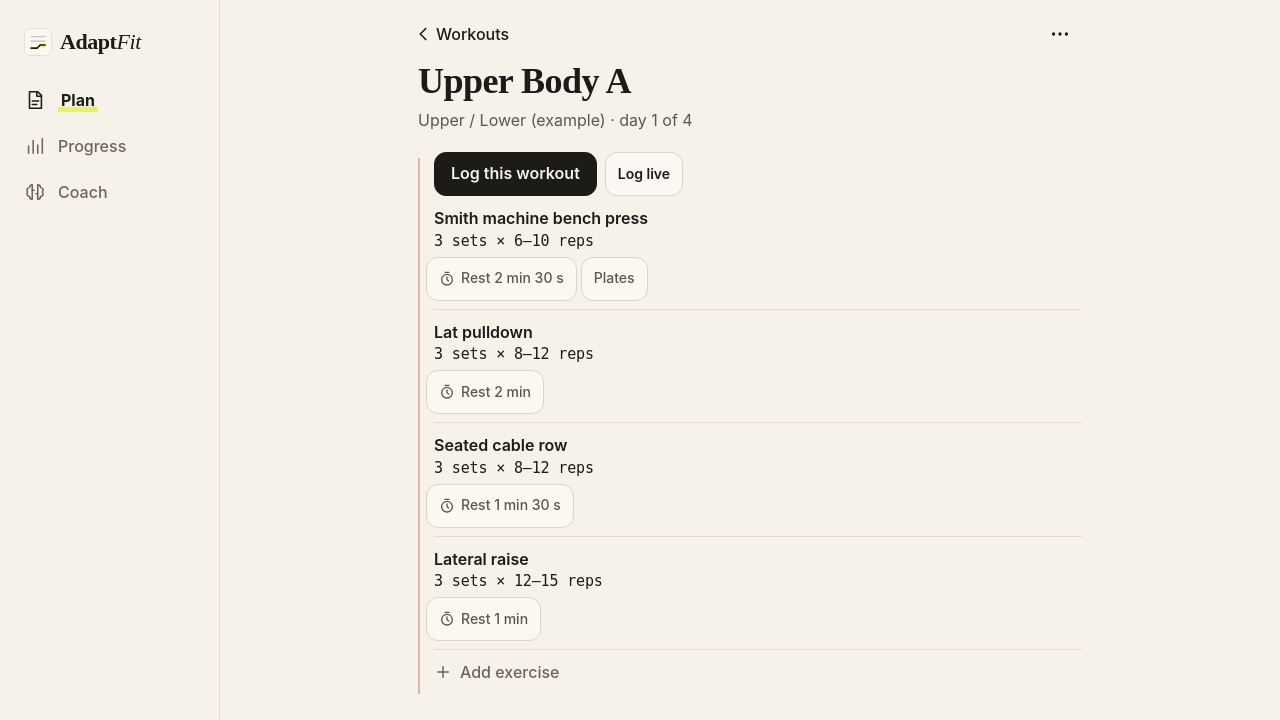
Scenario: Integration (V0.2 flows in the V0.4 UI) › T41 finishing a live log records it exactly once (no game rewards)
Click the button "Log live": click(644, 174) left=605, top=152, right=683, bottom=196
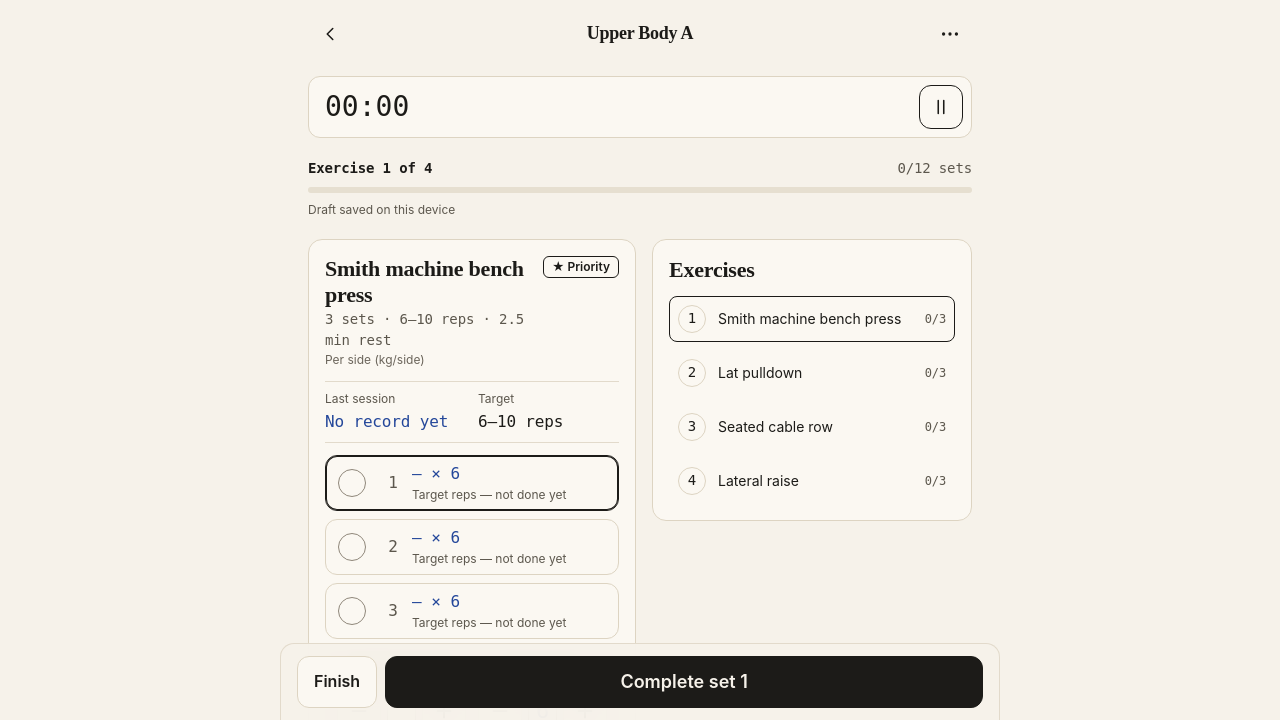
Check: the heading "Smith machine bench press" is shown, box left=325, top=256, right=535, bottom=309
Click the button "Complete set 1": click(684, 682) left=385, top=656, right=983, bottom=708
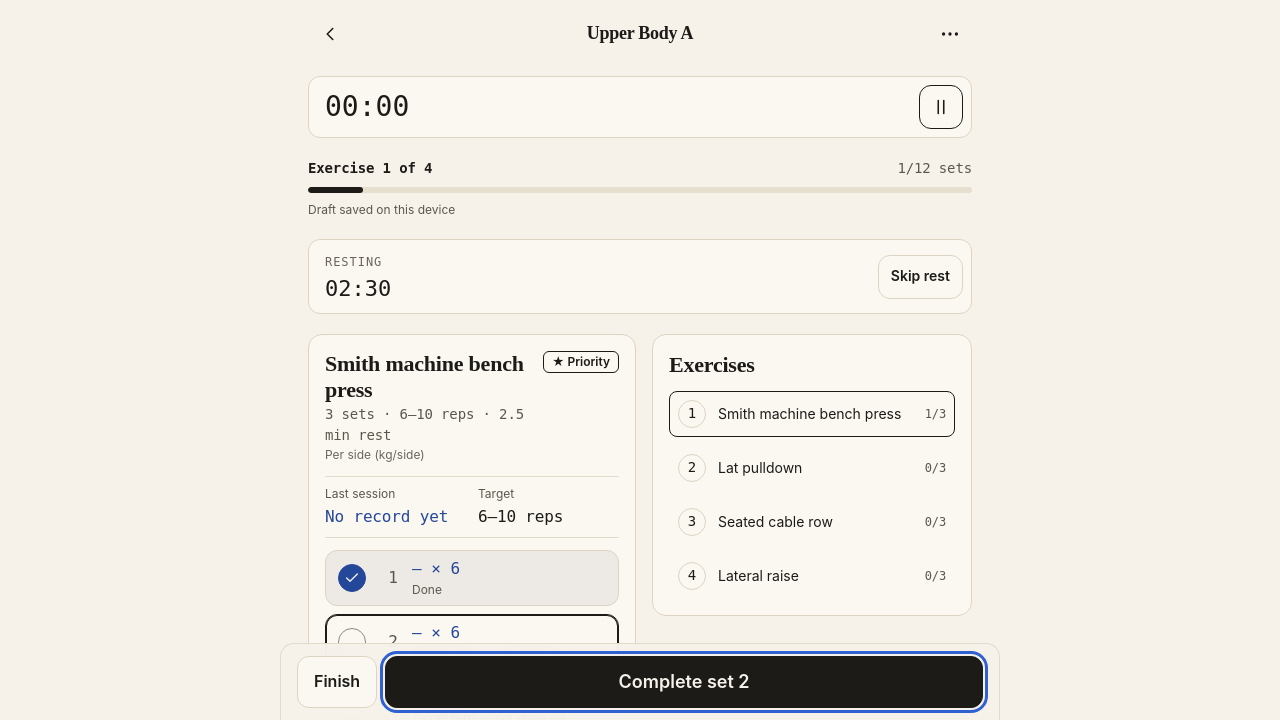
Click the button "Finish": click(337, 682) left=297, top=656, right=377, bottom=708
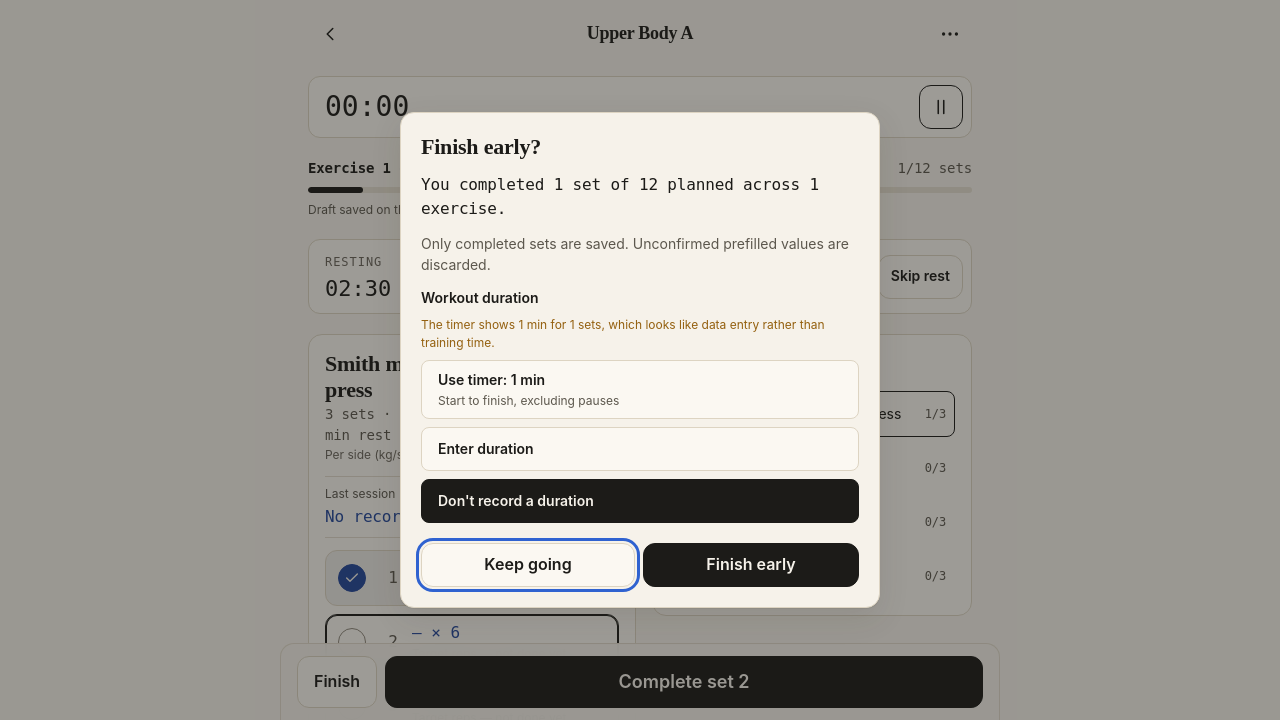
Click the button "Finish early": click(751, 565) left=643, top=543, right=859, bottom=587
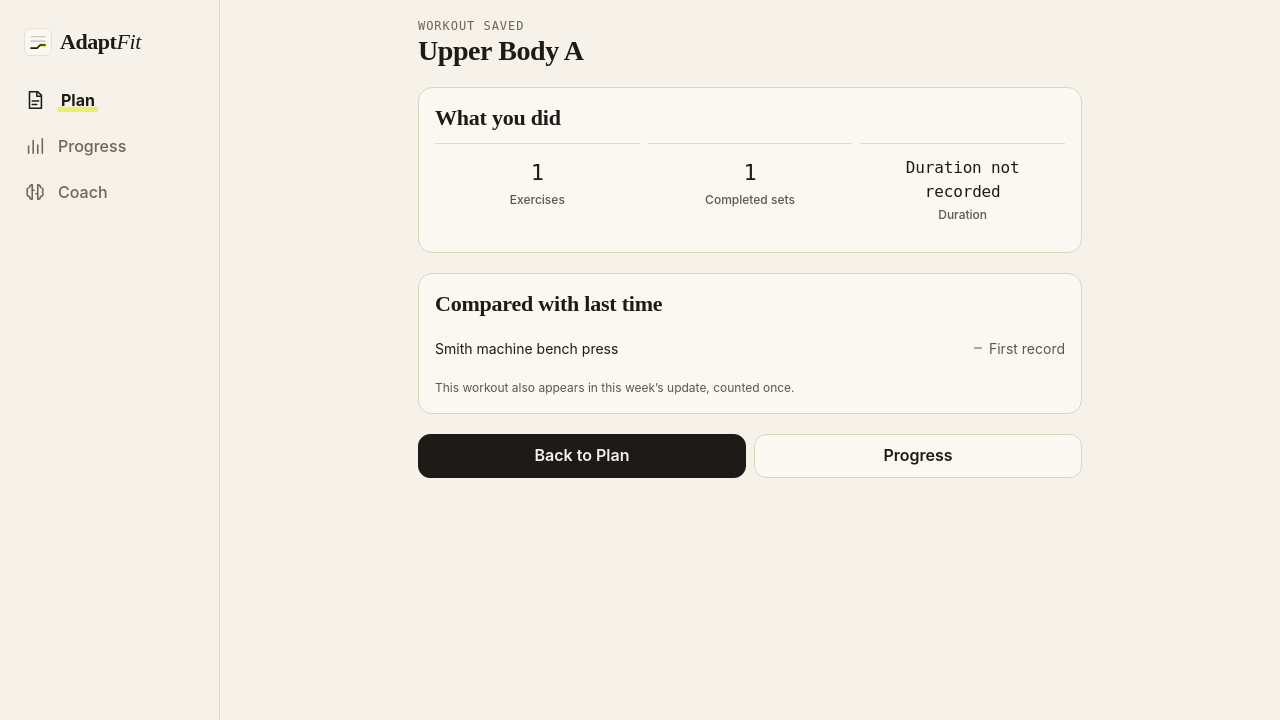
Check: the text "Workout saved" is shown, box left=418, top=17, right=524, bottom=35
